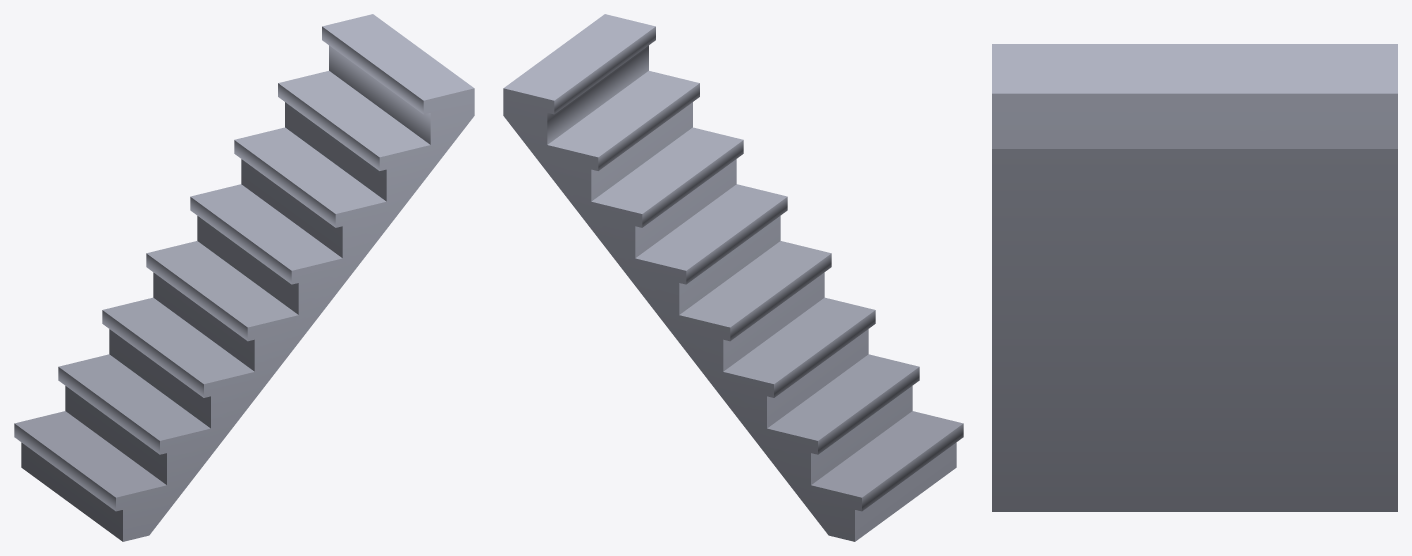
Rendered from stairs-stone.glb.
3 renders of one model, left to right at view 1: azimuth 30°, elevation 25°; view 2: azimuth 150°, elevation 25°; view 3: azimuth 270°, elevation 25°, orthographic. The views are drawn at different scales.
Visible parts, largest first — view 1: stairs-stone; view 2: stairs-stone; view 3: stairs-stone.
Boxes of the visible parts, left/top/right/bottom form: stairs-stone: left=14, top=14, right=474, bottom=541; stairs-stone: left=503, top=14, right=963, bottom=541; stairs-stone: left=992, top=44, right=1397, bottom=511.
Bounding box in the file's own units: 1.02 × 1 × 0.5.
